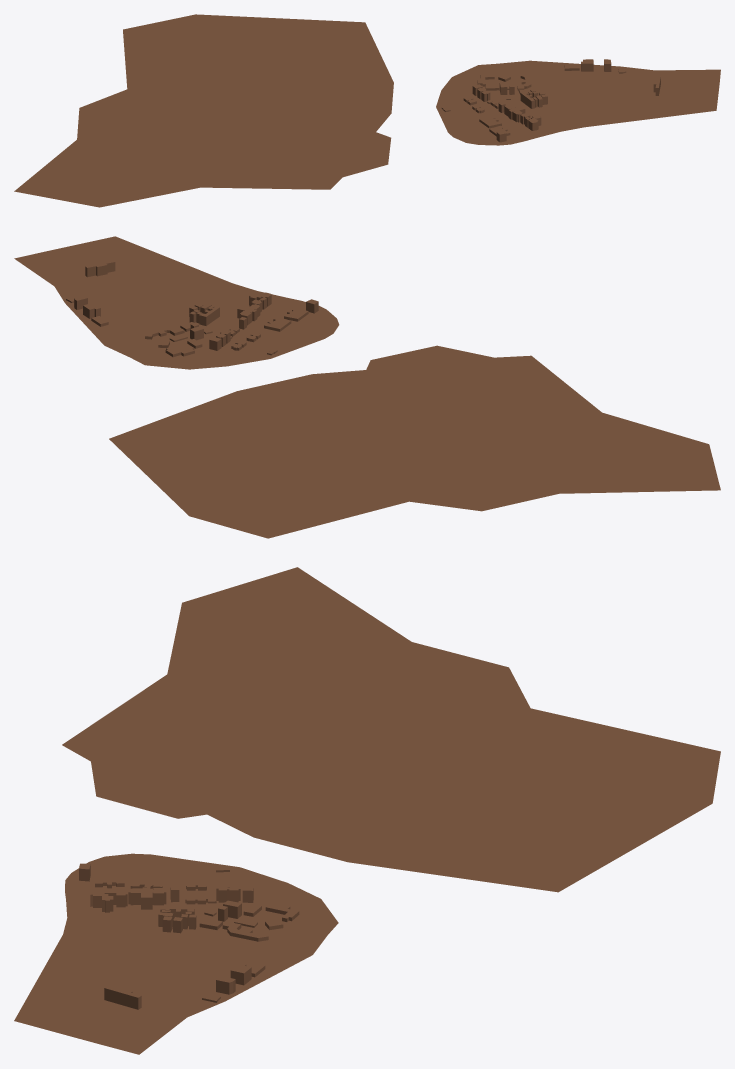
The model's file is ashesi.dae.
The picture shows the model from 3 angles, top to bottom: view 1: azimuth 30°, elevation 25°; view 2: azimuth 150°, elevation 25°; view 3: azimuth 270°, elevation 25°; orthographic projection. The views are drawn at different scales.
Parts seen in each view (by area): view 1: Areas; view 2: Areas; view 3: Areas.
Part boxes in pixels (x1,y1,x2,y2): Areas: [14, 14, 720, 207]; Areas: [14, 236, 720, 538]; Areas: [14, 567, 720, 1054].
Size of the model in its own units: 1737 by 1064 by 20.
